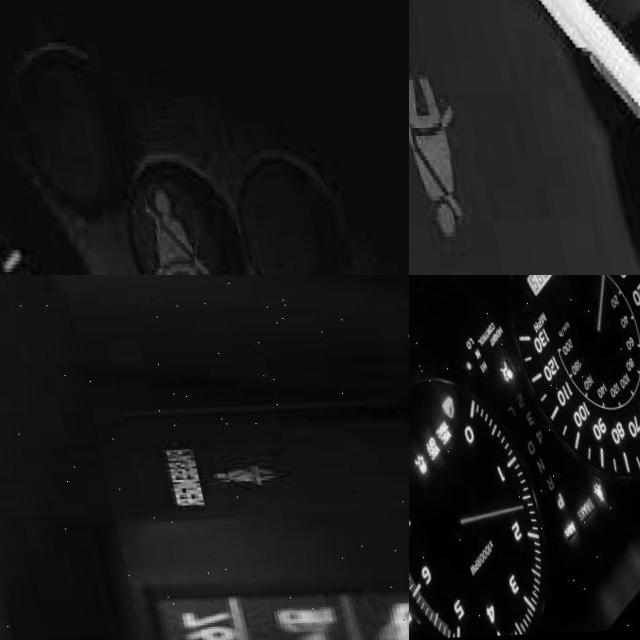Seat Belt: (409, 78, 452, 239), (123, 194, 201, 275), (194, 466, 261, 493)
